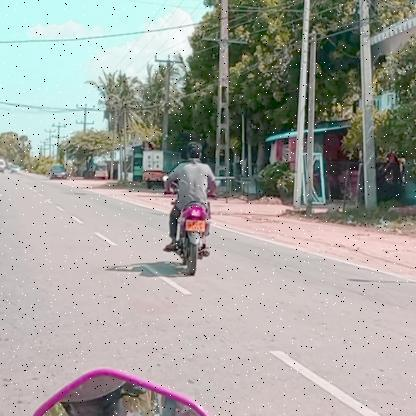motorcycle: (161, 200, 217, 279)
